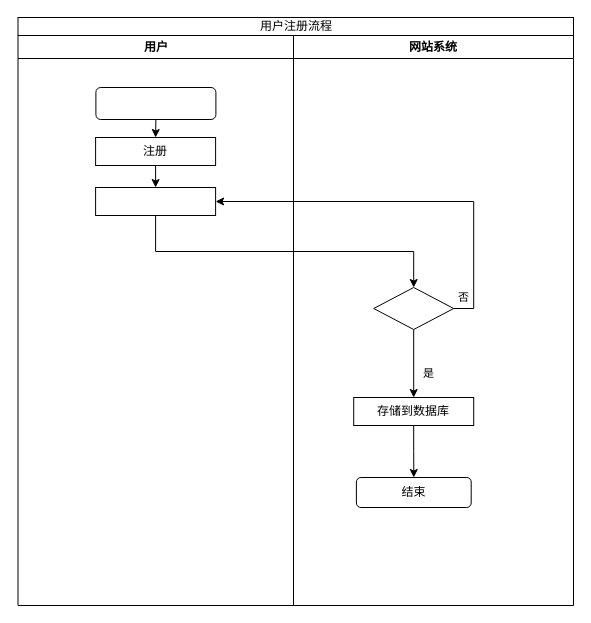
The diagram is 591 pixels wide and 623 high, and some of its shapes have lost their labels. The shapes that lost their labels are listed below. From the top down, each one's centre as x and y in pixels, then its label:
[155,103]: 开始
[155,201]: 填写用户信息
[413,308]: 是否通过
